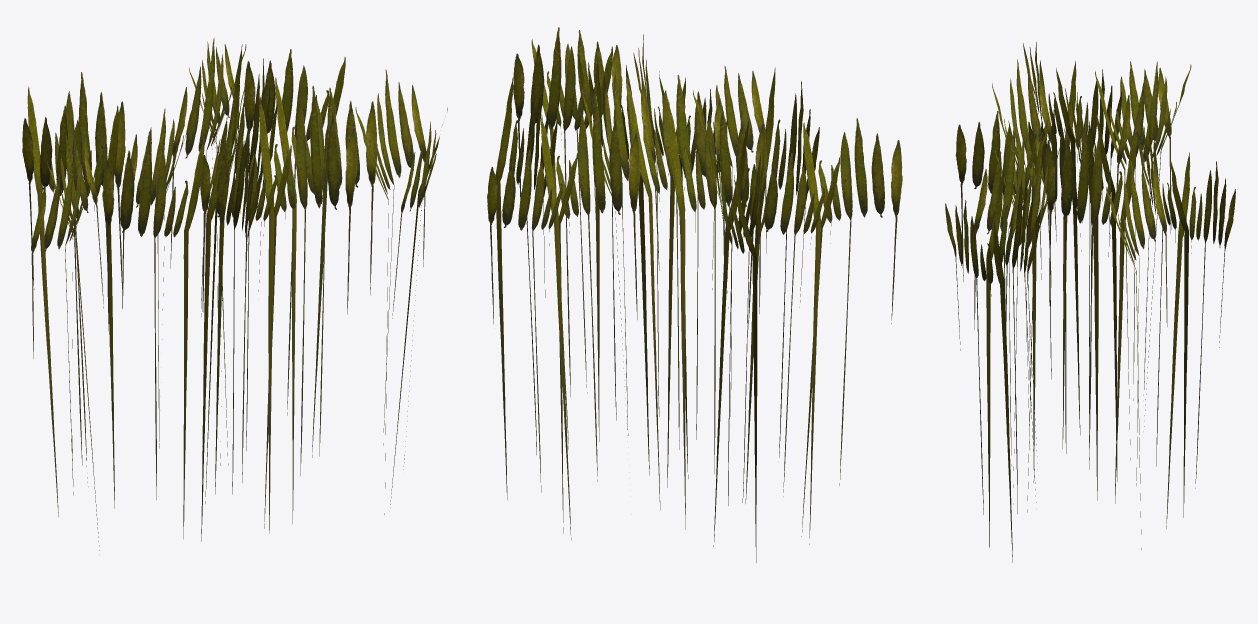
Rendered from reeds_stand_8m.DAE.
The picture shows the model from 3 angles, left to right: view 1: azimuth 30°, elevation 25°; view 2: azimuth 150°, elevation 25°; view 3: azimuth 270°, elevation 25°; orthographic projection. The views are drawn at different scales.
Visible parts, largest first — view 1: Plane03; view 2: Plane03; view 3: Plane03.
Boxes of the visible parts, <box> form: Plane03: <box>22,38,447,550</box>; Plane03: <box>487,27,902,562</box>; Plane03: <box>945,42,1235,562</box>.
Size of the model in its own units: 8.62 by 10.08 by 6.1.
